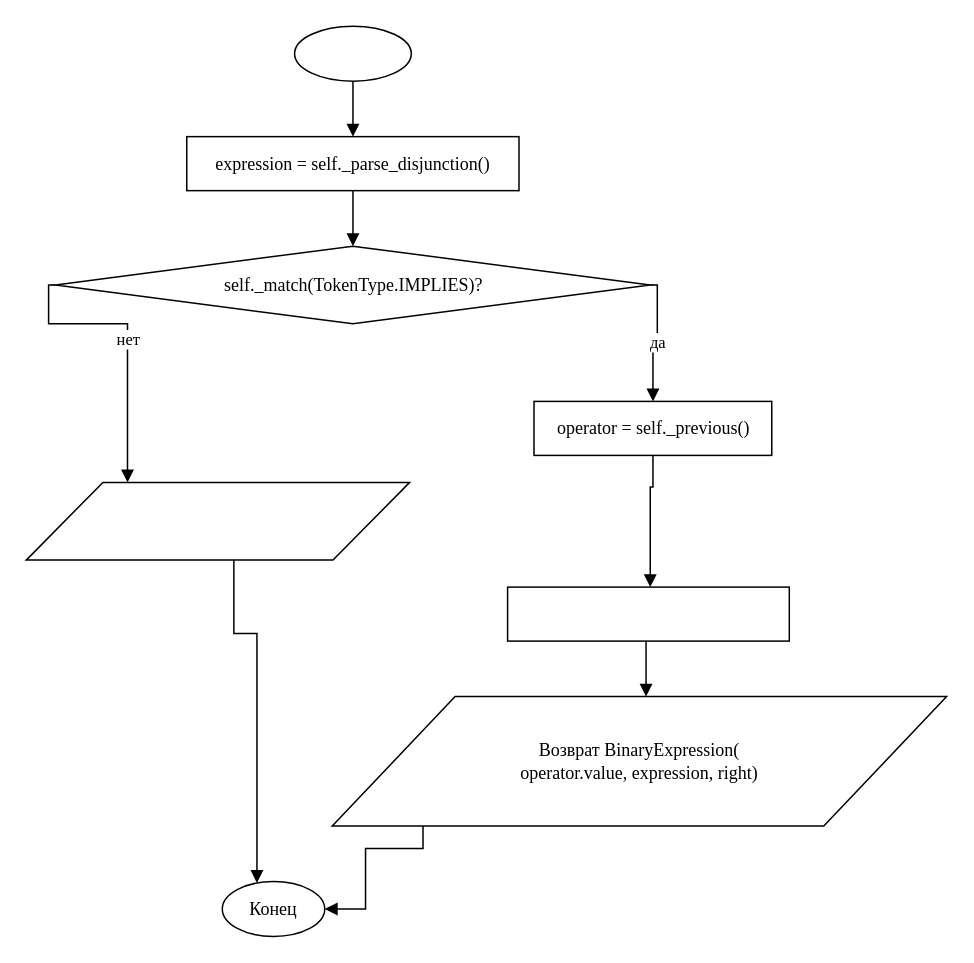
Image size: 974x963. Some labels were removed from this diagram. The shapes that lost their labels are listed below. From the top down, each one's centre as x and y in pixels, then its label:
At (352,53): "Начало".
At (217,520): "Возврат expression".
At (647,613): "right = self._parse_implication()".
